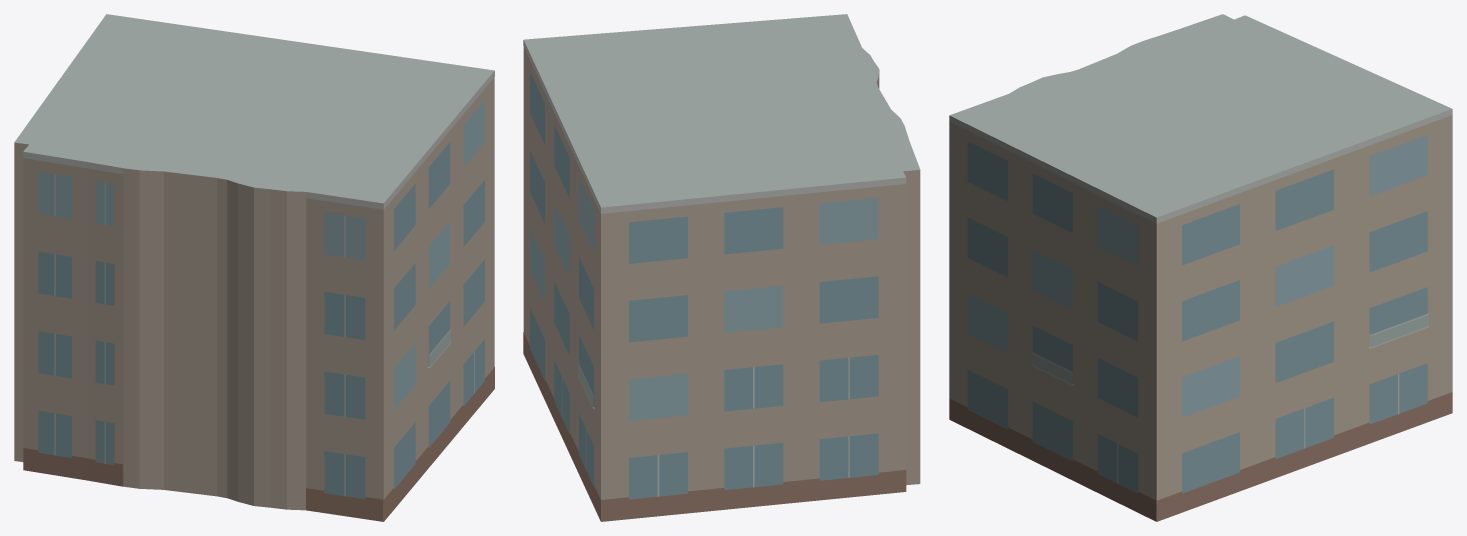
Rendered from survey-upis-32748259.glb.
3 views of the same model, side by side, from view 1: azimuth 30°, elevation 25°; view 2: azimuth 150°, elevation 25°; view 3: azimuth 270°, elevation 25° (orthographic). The views are drawn at different scales.
Parts seen in each view (by area): view 1: survey-upis-32748259.tmp; view 2: survey-upis-32748259.tmp; view 3: survey-upis-32748259.tmp.
Boxes of the visible parts, bbox=[...] form: survey-upis-32748259.tmp: bbox=[14, 14, 494, 521]; survey-upis-32748259.tmp: bbox=[523, 14, 920, 521]; survey-upis-32748259.tmp: bbox=[949, 14, 1452, 521].
Size of the model in its own units: 17.52 by 12.2 by 18.3.
